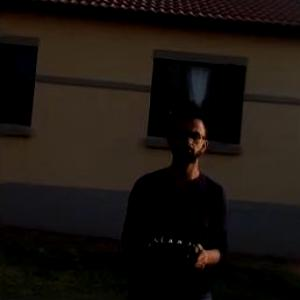follow: (118, 100, 235, 299)
